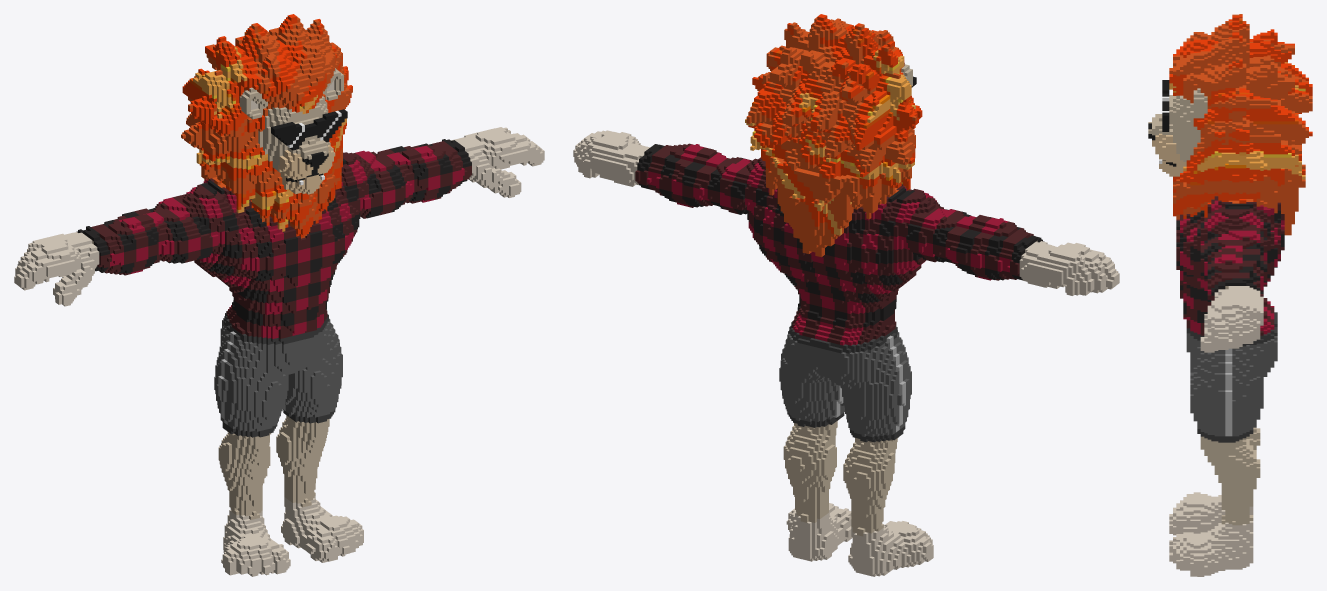
The model's file is 476-Dsn6MVm1.fbx.
3 renders of one model, left to right at view 1: azimuth 30°, elevation 25°; view 2: azimuth 150°, elevation 25°; view 3: azimuth 270°, elevation 25°, orthographic. The views are drawn at different scales.
Visible parts, largest first — view 1: standard; view 2: standard; view 3: standard.
Boxes of the visible parts, x1,y1,x2,y2 form: standard: [14, 14, 544, 576]; standard: [573, 14, 1119, 576]; standard: [1148, 14, 1312, 576].
Size of the model in its own units: 17.2 by 16.5 by 4.7.
Materials: 5 (5 with a texture image).
